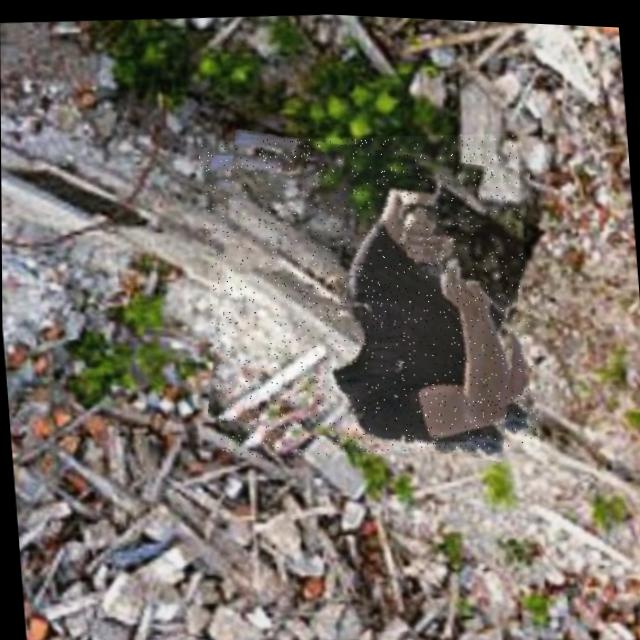Person in Rubble: (197, 116, 539, 465)
